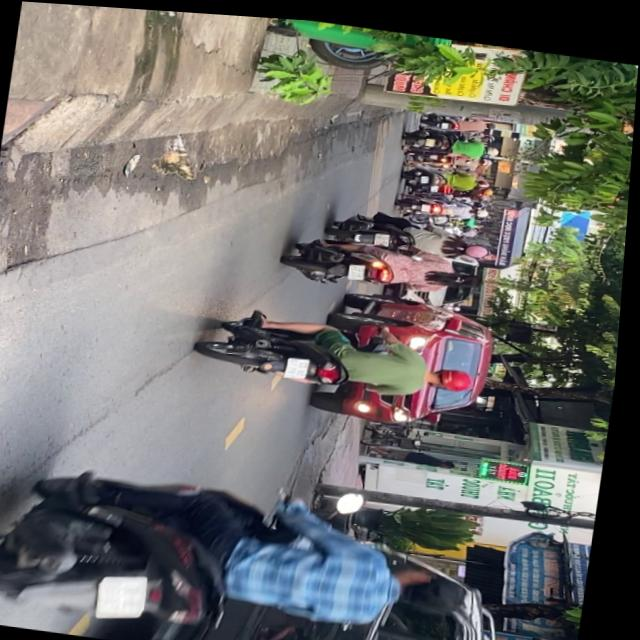helmet: (434, 359, 481, 387), (466, 236, 494, 253)
licenseplate: (0, 445, 491, 640), (200, 299, 488, 403), (283, 227, 491, 298), (330, 200, 498, 258)
motorcyclist: (393, 556, 478, 610), (457, 264, 487, 283)
nohelmet: (102, 568, 158, 620), (290, 352, 314, 374), (352, 257, 370, 274), (378, 226, 394, 240)
